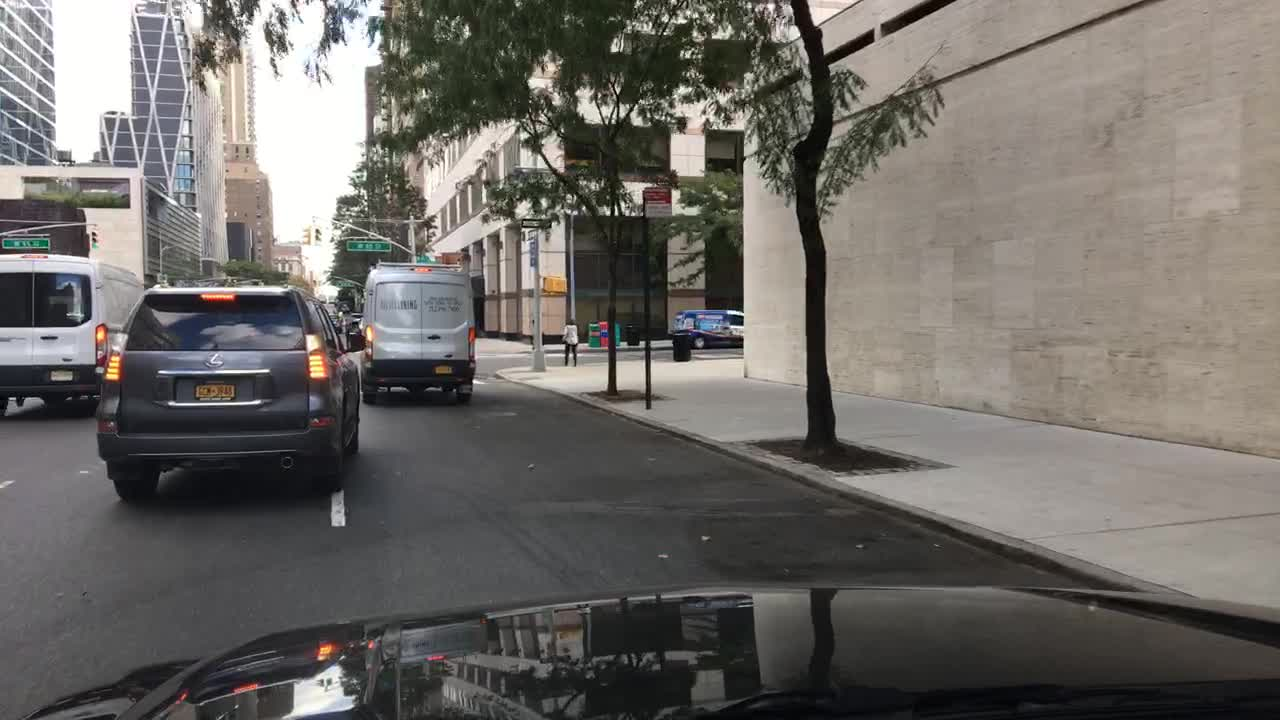car: (93, 283, 360, 503), (0, 254, 144, 414), (359, 261, 478, 406), (670, 308, 743, 349), (345, 312, 366, 351), (322, 309, 343, 334)
person: (561, 316, 579, 368)
traffic light: (540, 275, 567, 297), (88, 231, 100, 249), (301, 225, 311, 246), (313, 226, 322, 246)
traffic sign: (641, 186, 671, 220), (343, 238, 391, 253), (2, 236, 52, 249), (517, 215, 551, 229)
